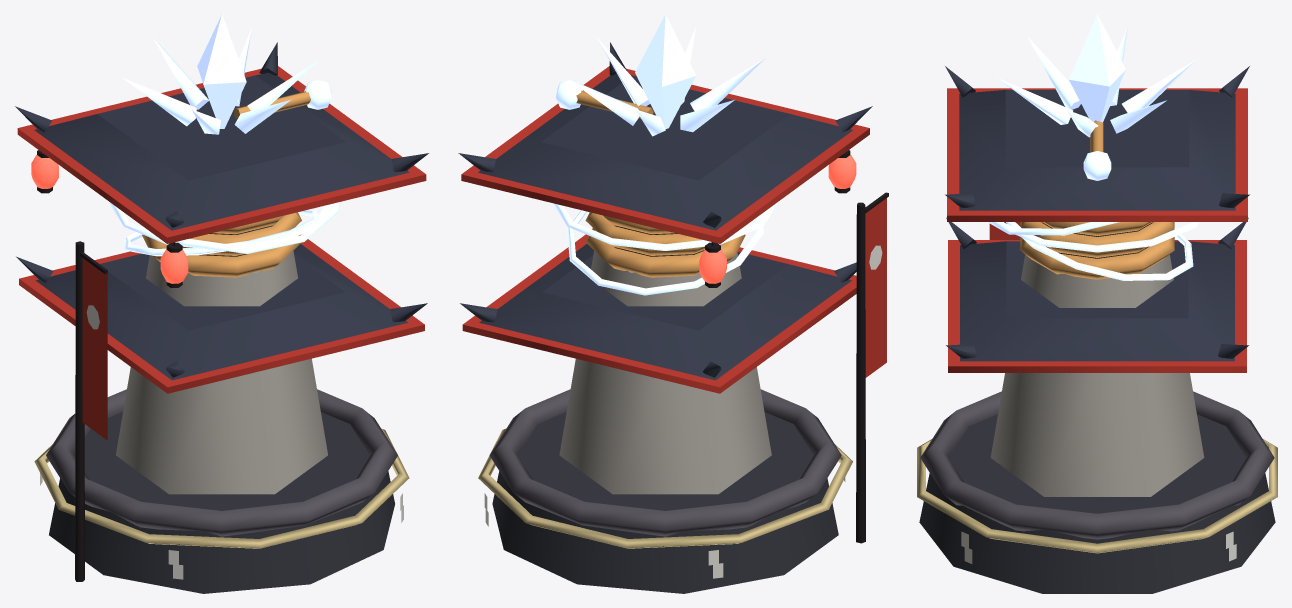
Rendered from tower_chain_storm.glb.
The picture shows the model from 3 angles, left to right: view 1: azimuth 30°, elevation 25°; view 2: azimuth 150°, elevation 25°; view 3: azimuth 270°, elevation 25°; orthographic projection.
Parts seen in each view (by area): view 1: deco_eave_0_roof, shaft, base, deco_eave_1_roof, base_rim, deco_eave_0_rim, deco_eave_1_rim, deco_shimenawa_rope, deco_nobori_cloth, crystal_core, deco_nobori_pole, coil_0 (+14 smaller); view 2: deco_eave_0_roof, base, shaft, deco_eave_1_roof, base_rim, deco_eave_0_rim, deco_eave_1_rim, deco_shimenawa_rope, crystal_core, deco_nobori_cloth, deco_nobori_pole, coil_0 (+12 smaller); view 3: deco_eave_0_roof, shaft, base, deco_eave_1_roof, base_rim, deco_eave_0_rim, deco_eave_1_rim, deco_shimenawa_rope, crystal_core, coil_0, coil_1, antenna_ring_0 (+10 smaller).
Part boxes in pixels (bbox=[...]): deco_eave_0_roof: bbox=[34, 72, 409, 230]; shaft: bbox=[116, 250, 327, 494]; base: bbox=[49, 412, 394, 593]; deco_eave_1_roof: bbox=[35, 244, 408, 380]; base_rim: bbox=[46, 389, 397, 536]; deco_eave_0_rim: bbox=[17, 66, 426, 243]; deco_eave_1_rim: bbox=[19, 234, 424, 393]; deco_shimenawa_rope: bbox=[34, 428, 409, 548]; deco_nobori_cloth: bbox=[82, 258, 107, 440]; crystal_core: bbox=[197, 14, 246, 128]; deco_nobori_pole: bbox=[75, 241, 84, 581]; coil_0: bbox=[142, 234, 301, 277]; deco_eave_0_roof: bbox=[478, 74, 852, 230]; base: bbox=[492, 412, 838, 593]; shaft: bbox=[559, 250, 771, 494]; deco_eave_1_roof: bbox=[479, 244, 851, 380]; base_rim: bbox=[489, 389, 841, 536]; deco_eave_0_rim: bbox=[461, 66, 869, 243]; deco_eave_1_rim: bbox=[462, 234, 856, 393]; deco_shimenawa_rope: bbox=[478, 428, 852, 548]; crystal_core: bbox=[635, 14, 696, 129]; deco_nobori_cloth: bbox=[865, 198, 886, 377]; deco_nobori_pole: bbox=[856, 202, 865, 543]; coil_0: bbox=[585, 228, 745, 277]; deco_eave_0_roof: bbox=[959, 90, 1235, 210]; shaft: bbox=[990, 254, 1204, 496]; base: bbox=[919, 414, 1275, 593]; deco_eave_1_roof: bbox=[960, 241, 1234, 361]; base_rim: bbox=[920, 391, 1274, 539]; deco_eave_0_rim: bbox=[947, 88, 1247, 221]; deco_eave_1_rim: bbox=[948, 240, 1246, 372]; deco_shimenawa_rope: bbox=[917, 439, 1277, 553]; crystal_core: bbox=[1069, 14, 1125, 122]; coil_0: bbox=[1020, 229, 1174, 279]; coil_1: bbox=[1020, 222, 1174, 257]; antenna_ring_0: bbox=[1006, 222, 1193, 280].
Bounding box in the file's own units: 0.4387 × 0.63 × 0.4052.
